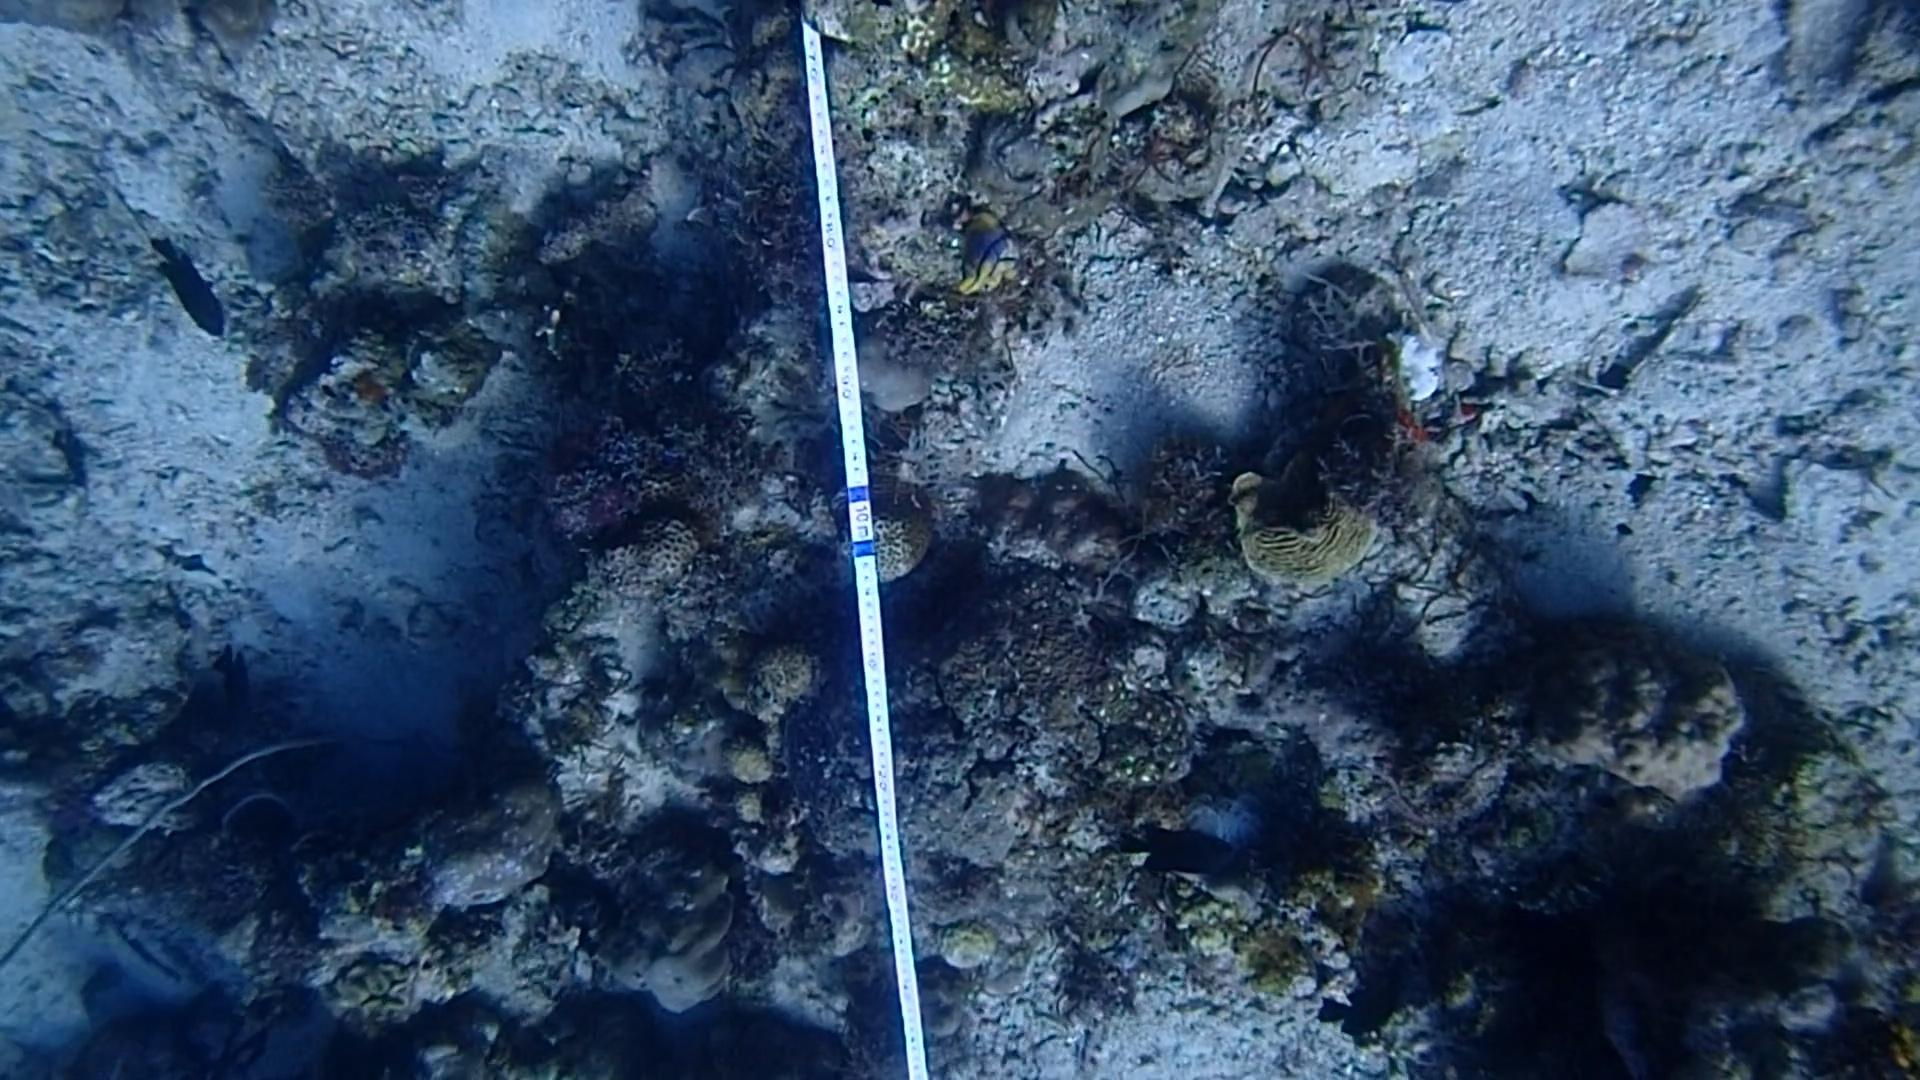Dark Fish: (141, 223, 233, 349), (1112, 818, 1241, 905), (1316, 973, 1415, 1048), (200, 641, 262, 737)
